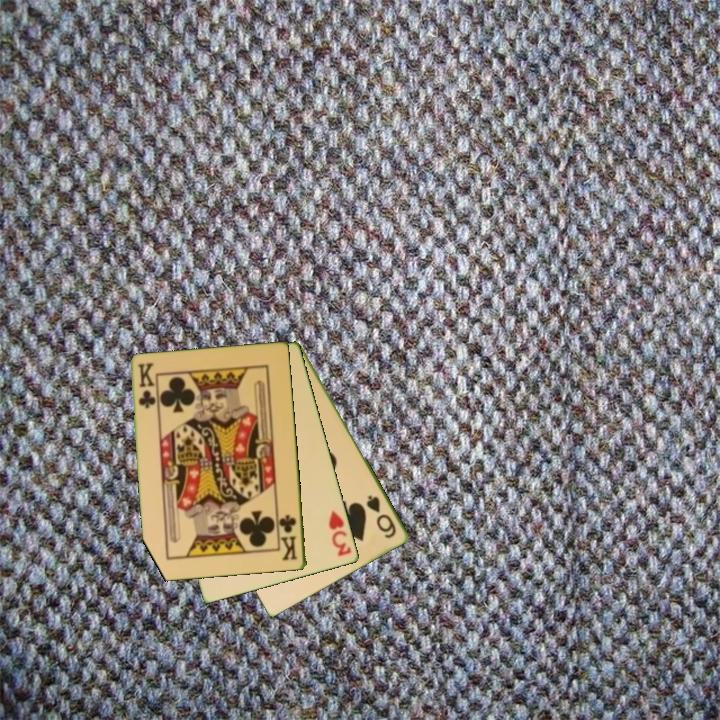3h: (325, 507, 355, 559)
6s: (363, 492, 400, 542)
Kc: (277, 512, 301, 563), (134, 360, 157, 412)
